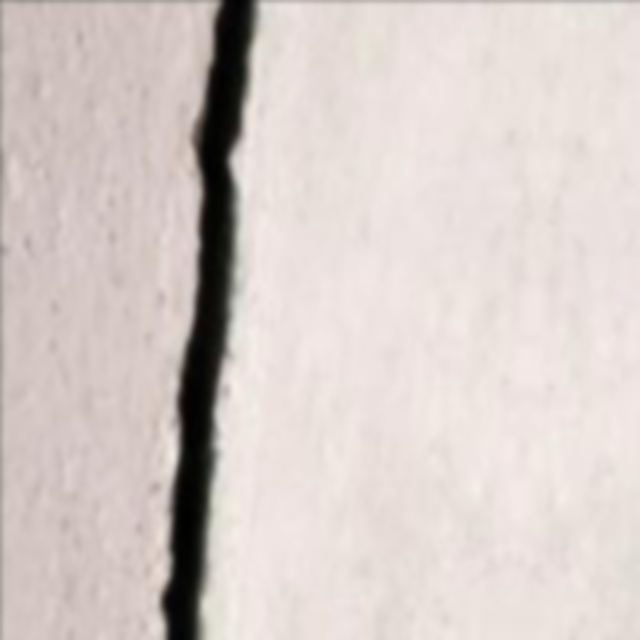SurfaceCrack: (126, 0, 290, 640)
